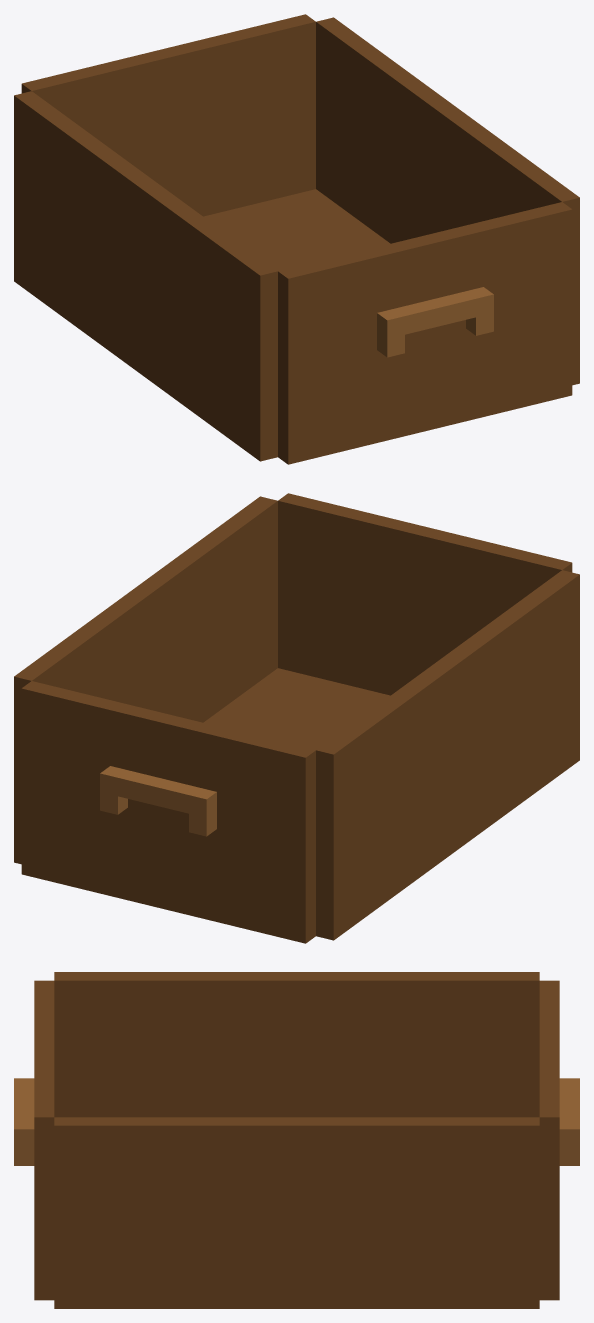
The model's file is Crate B.obj.
3 renders of one model, top to bottom at view 1: azimuth 30°, elevation 25°; view 2: azimuth 150°, elevation 25°; view 3: azimuth 270°, elevation 25°, orthographic.
Visible parts, largest first — view 1: Crate B; view 2: Crate B; view 3: Crate B.
Boxes of the visible parts, bbox=[...] form: Crate B: bbox=[14, 14, 579, 464]; Crate B: bbox=[14, 493, 579, 943]; Crate B: bbox=[14, 972, 579, 1308].
Bounding box in the file's own units: 18 × 10 × 28.
